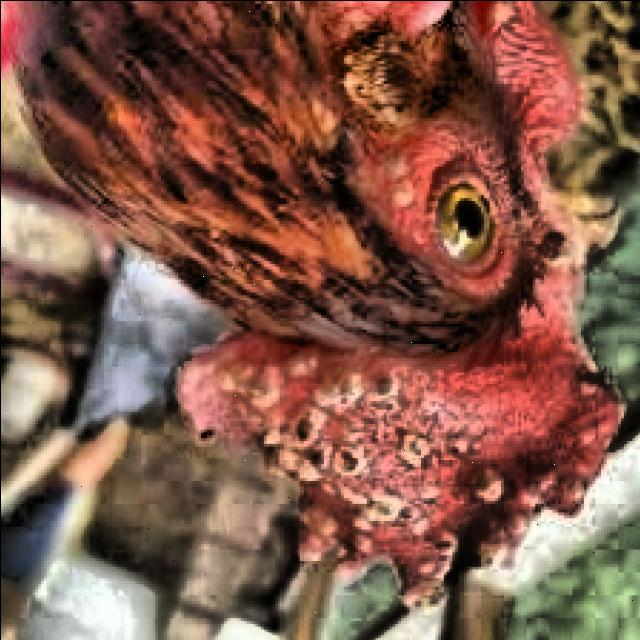Fowlpox: (218, 29, 590, 596)
